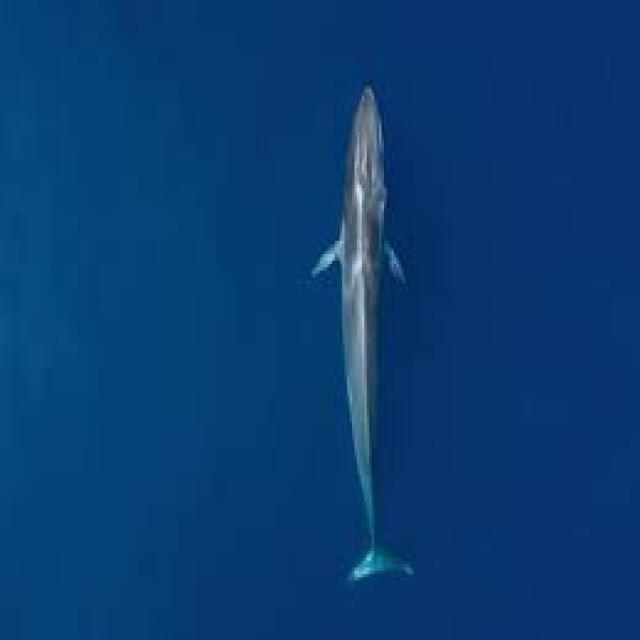blue_whale: (270, 70, 472, 610)
